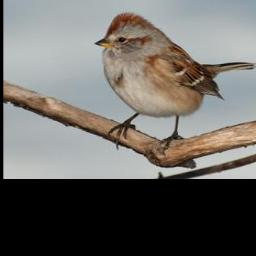Sparrow: (92, 11, 256, 157)
